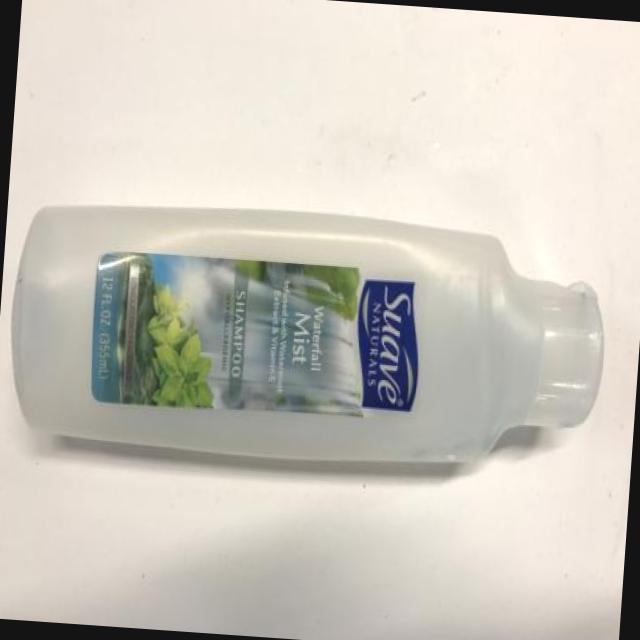Recycle: (4, 198, 612, 490)
